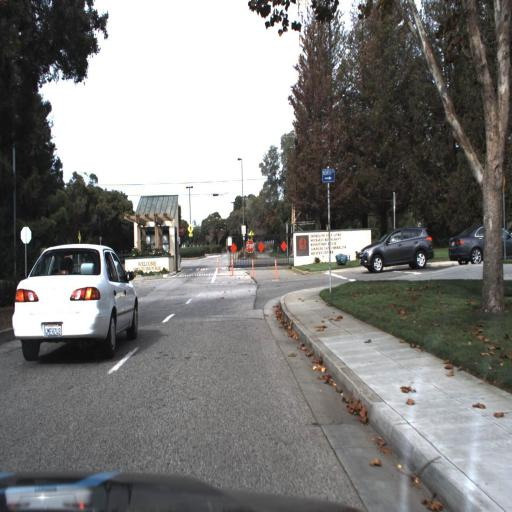car: (9, 243, 139, 361), (356, 224, 434, 275), (447, 218, 512, 270)
